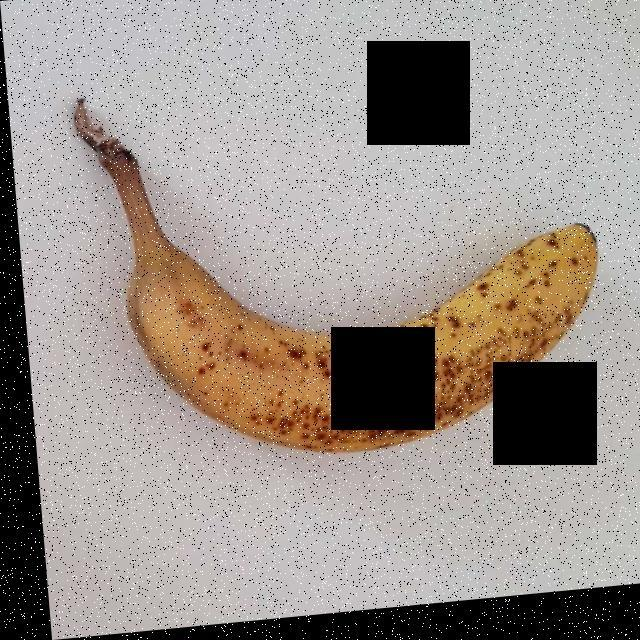banana: (100, 138, 568, 457)
